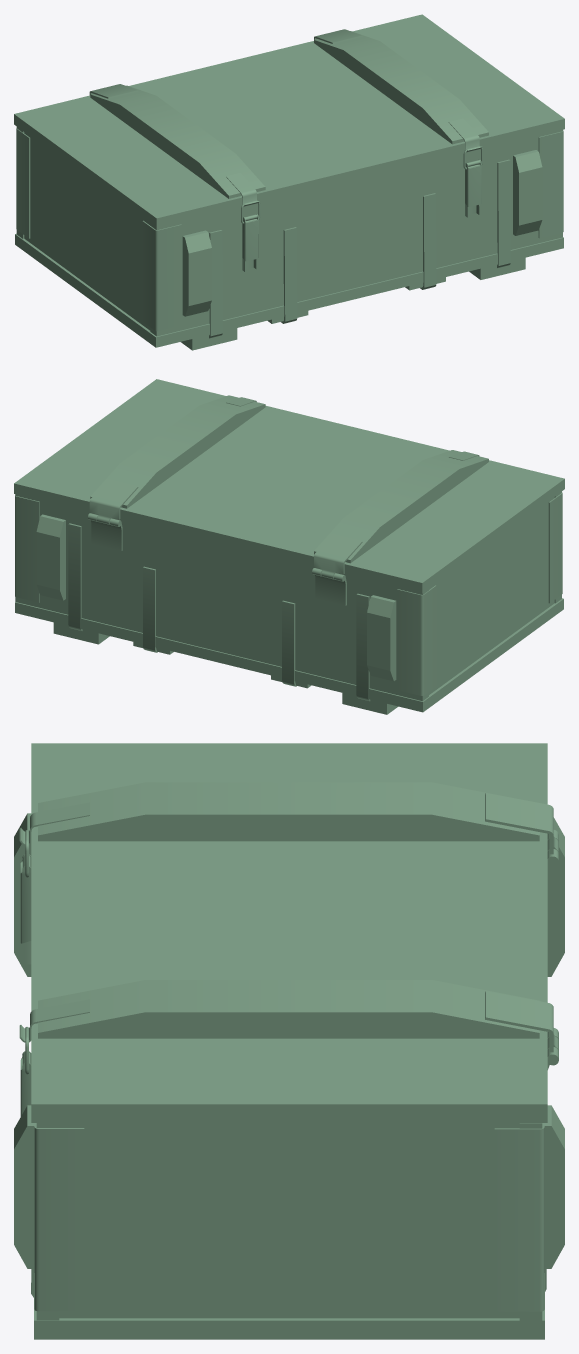
File: Weapon Crate.fbx
3 renders of one model, top to bottom at view 1: azimuth 30°, elevation 25°; view 2: azimuth 150°, elevation 25°; view 3: azimuth 270°, elevation 25°, orthographic. The views are drawn at different scales.
Visible parts, largest first — view 1: Body, Lid, Clip_R, Clip_L; view 2: Body, Lid; view 3: Lid, Body, Clip_L.
Boxes of the visible parts, x1=… form: Body: x1=15, y1=127, x2=563, y2=350; Lid: x1=14, y1=14, x2=564, y2=228; Clip_R: x1=465, y1=159, x2=481, y2=206; Clip_L: x1=242, y1=214, x2=258, y2=261; Body: x1=15, y1=491, x2=563, y2=714; Lid: x1=14, y1=379, x2=564, y2=593; Lid: x1=19, y1=743, x2=558, y2=1122; Body: x1=14, y1=813, x2=564, y2=1339; Clip_L: x1=20, y1=854, x2=31, y2=943.
Size of the model in its own units: 39.96 by 25.73 by 14.67.
